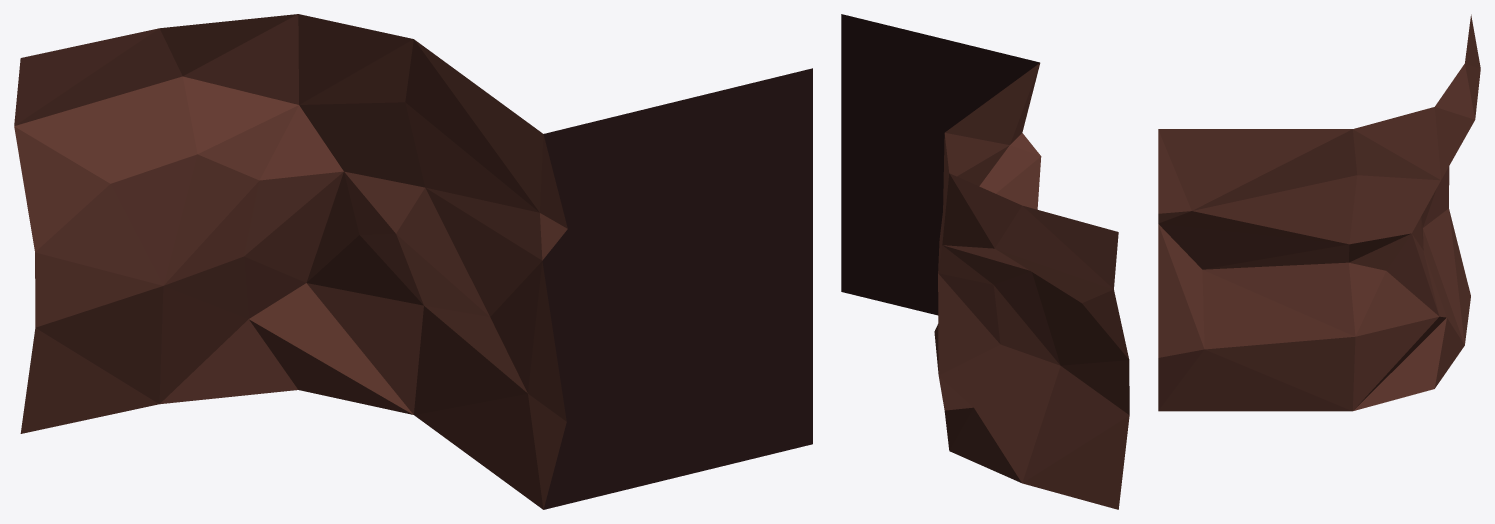
File: Block_MID_RIGHT.fbx
3 renders of one model, left to right at view 1: azimuth 30°, elevation 25°; view 2: azimuth 150°, elevation 25°; view 3: azimuth 270°, elevation 25°, orthographic. The views are drawn at different scales.
Parts seen in each view (by area): view 1: Block_MID_RIGHT; view 2: Block_MID_RIGHT; view 3: Block_MID_RIGHT.
Part boxes in pixels (x1,y1,x2,y2): Block_MID_RIGHT: (14,14,812,509); Block_MID_RIGHT: (841,14,1129,509); Block_MID_RIGHT: (1158,14,1480,411).
Bounding box in the file's own units: 13 × 8 × 8.29.
